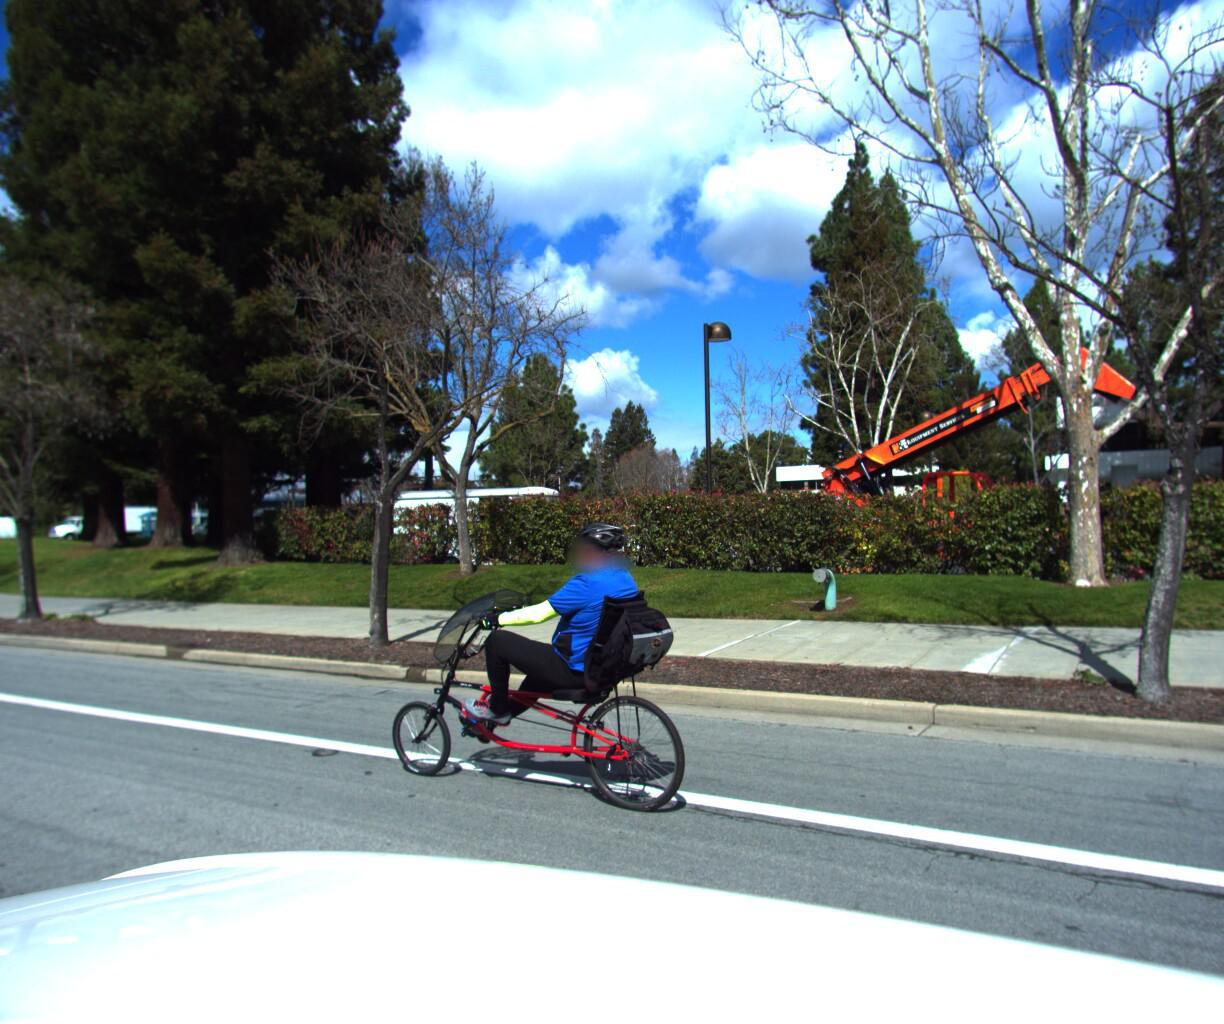bicycle: (340, 508, 726, 850)
car: (0, 518, 30, 552)
